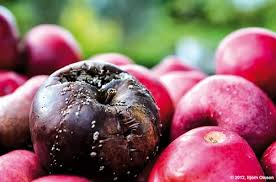damaged_apple: (35, 69, 161, 174)
